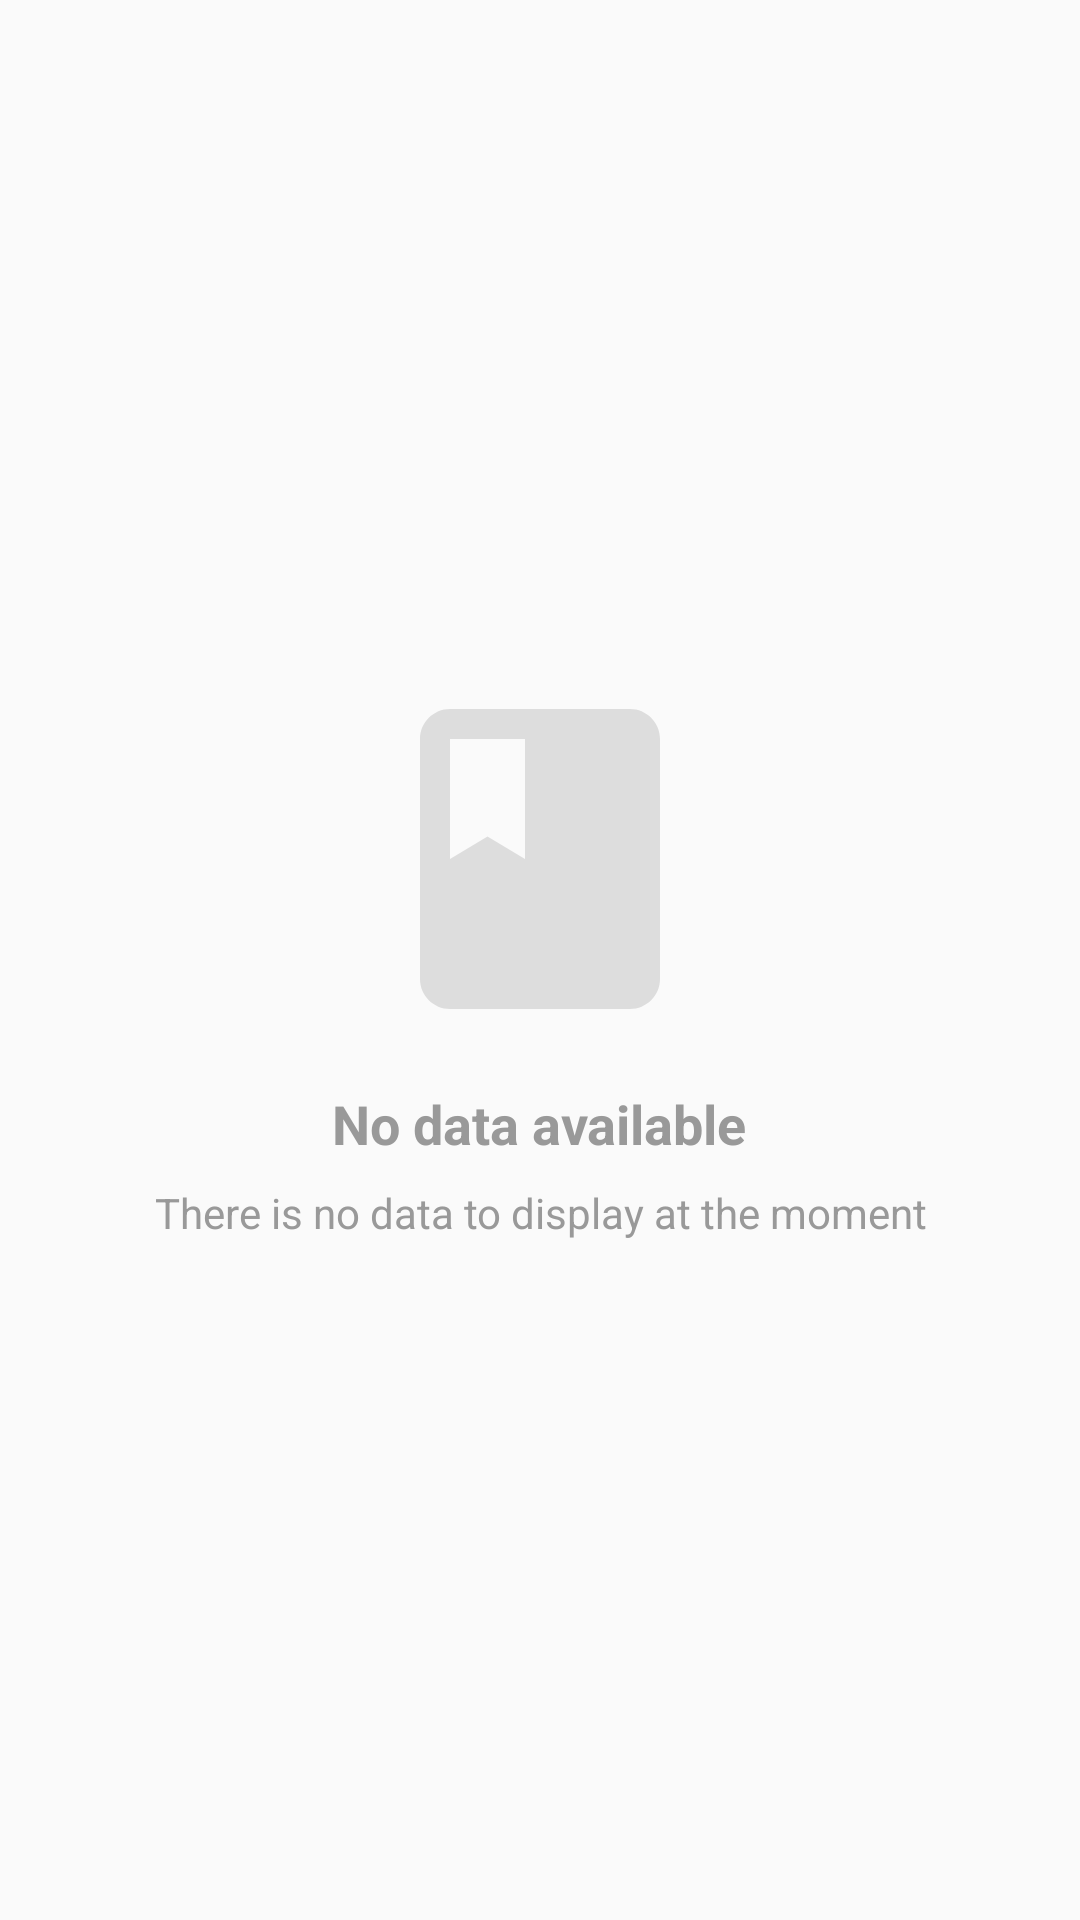

Named icons in this screenshot (1080px x 1920px) and their centers, [x,y]:
book: [540,859]
